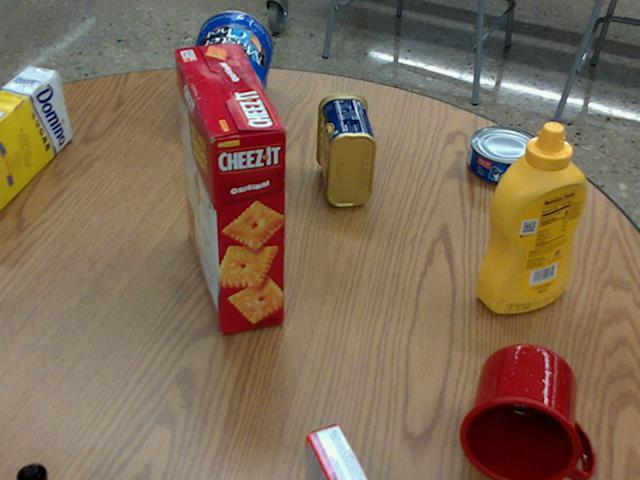cracker_box: (176, 45, 289, 333)
gelatin_box: (304, 425, 364, 479)
large_marker: (16, 467, 46, 479)
master_chef_can: (178, 11, 271, 133)
mug: (461, 344, 593, 479)
mustard_bottle: (475, 122, 586, 312)
potted_meat_can: (316, 92, 376, 206)
sugar_box: (0, 66, 69, 209)
tuna_fish_can: (467, 125, 540, 186)
